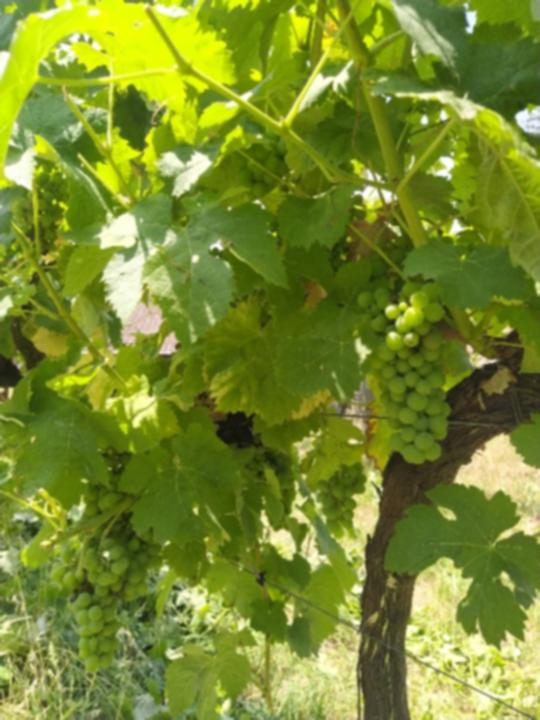grape: (355, 281, 453, 467), (48, 536, 131, 674)
